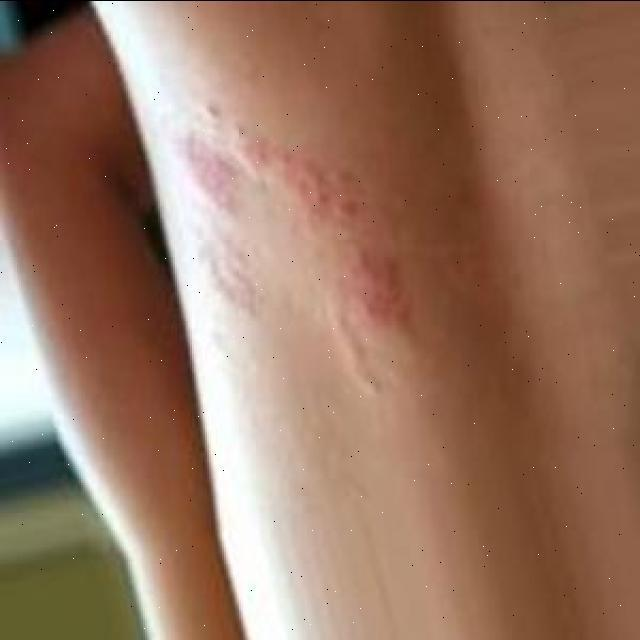Shingles: (176, 97, 418, 373)
